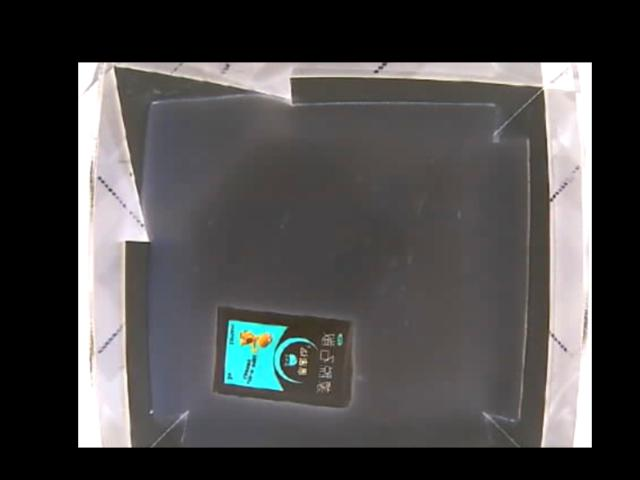Medicine: (212, 303, 354, 408)
